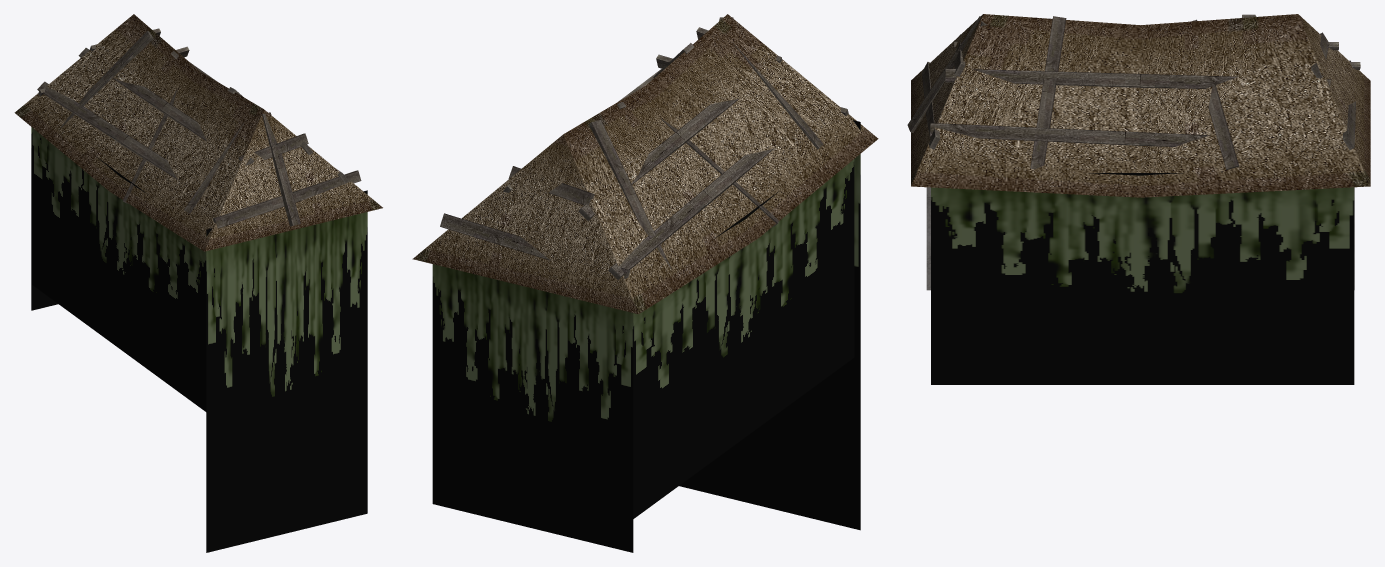
File: house_ua_1.fbx
3 views of the same model, side by side, from view 1: azimuth 30°, elevation 25°; view 2: azimuth 150°, elevation 25°; view 3: azimuth 270°, elevation 25° (orthographic). The views are drawn at different scales.
Visible parts, largest first — view 1: Cube; view 2: Cube; view 3: Cube.
Boxes of the visible parts, x1,y1,x2,y2 form: Cube: (14,14,382,552); Cube: (412,14,878,552); Cube: (907,14,1370,384).
Size of the model in its own units: 525 by 1131 by 965.
